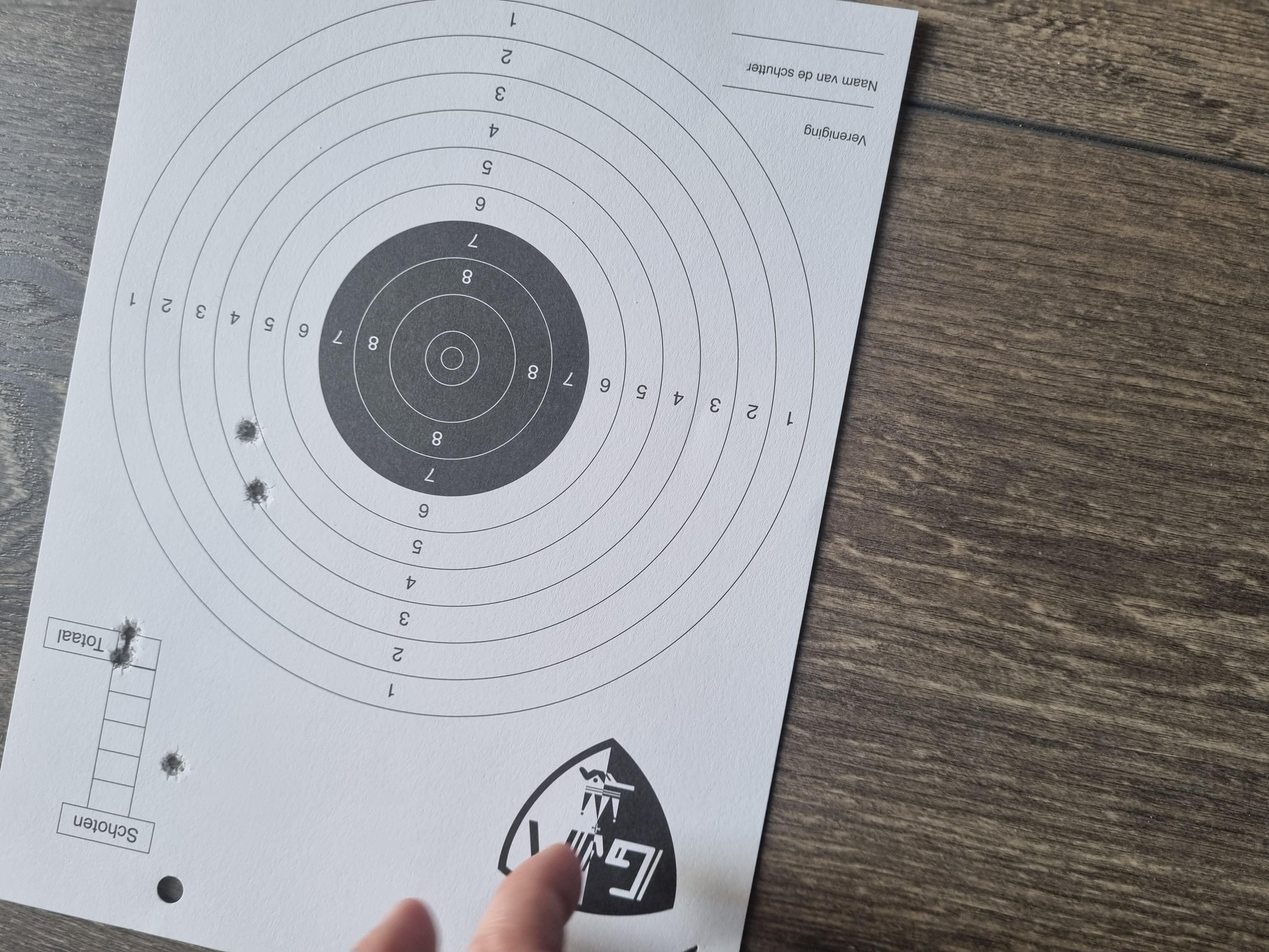hole: (589, 182, 633, 206), (228, 120, 275, 140), (677, 176, 713, 198), (371, 82, 412, 100), (412, 87, 448, 106)
